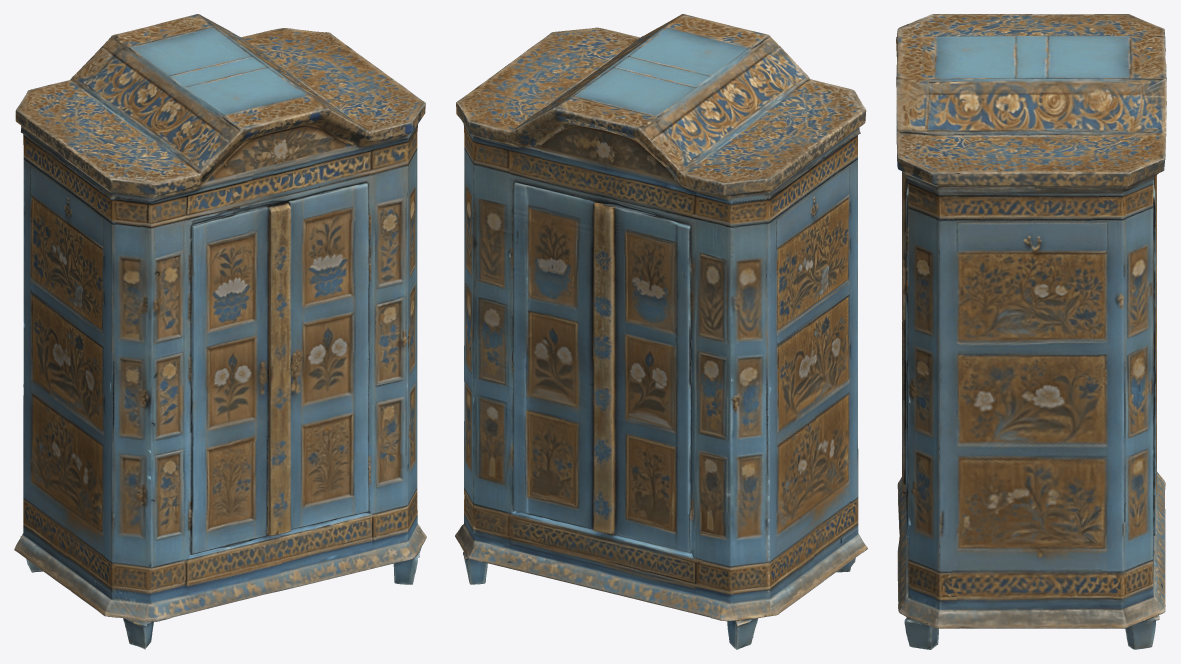
Rendered from wardrobe-folk.glb.
3 views of the same model, side by side, from view 1: azimuth 30°, elevation 25°; view 2: azimuth 150°, elevation 25°; view 3: azimuth 270°, elevation 25° (orthographic). The views are drawn at different scales.
Parts seen in each view (by area): view 1: file1_0; view 2: file1_0; view 3: file1_0.
Boxes of the visible parts, bbox=[...] form: file1_0: bbox=[14, 14, 426, 649]; file1_0: bbox=[455, 14, 867, 649]; file1_0: bbox=[896, 14, 1166, 649].
Size of the model in its own units: 1.35 by 2 by 0.9408.
Materials: 1 (1 with a texture image).
